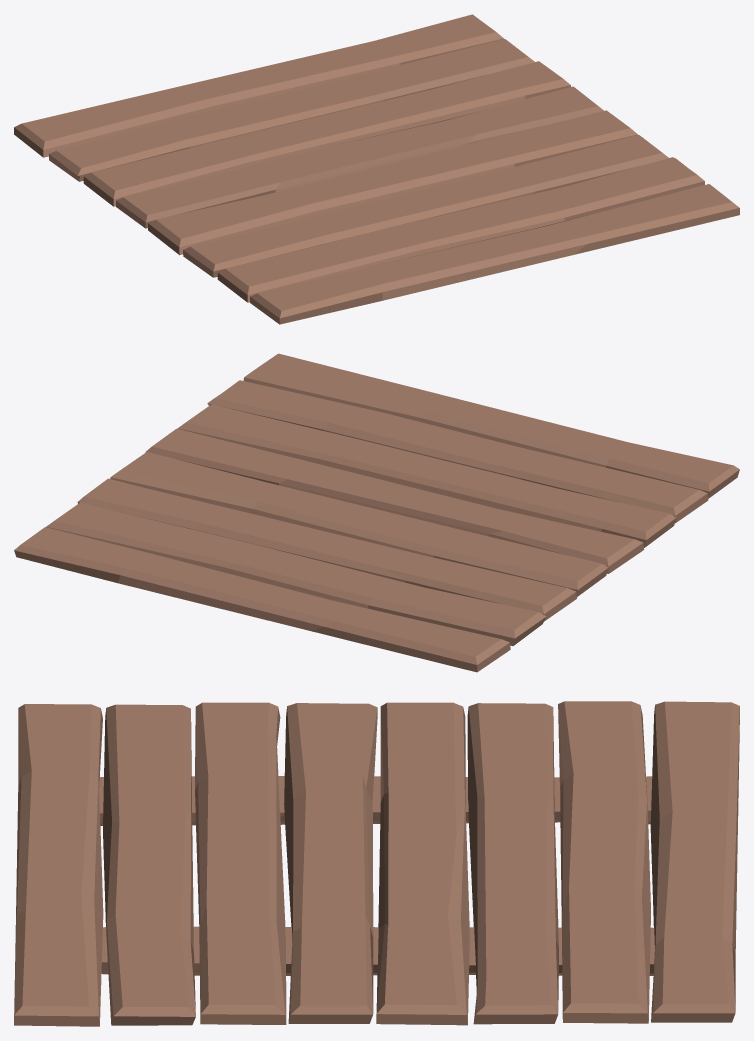
The model's file is fantasy_dock_1.fbx.
The picture shows the model from 3 angles, top to bottom: view 1: azimuth 30°, elevation 25°; view 2: azimuth 150°, elevation 25°; view 3: azimuth 270°, elevation 25°; orthographic projection. The views are drawn at different scales.
Parts seen in each view (by area): view 1: Cube.055; view 2: Cube.055; view 3: Cube.055.
Boxes of the visible parts, x1,y1,x2,y2 form: Cube.055: (14,14,739,324); Cube.055: (14,353,739,672); Cube.055: (14,701,739,1026).
Size of the model in its own units: 304 by 14.93 by 298.
